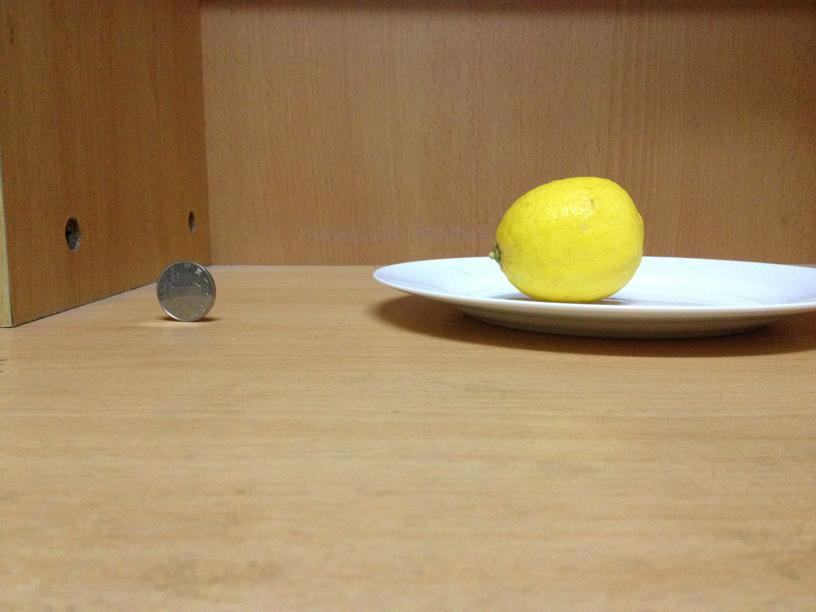coin: (155, 261, 213, 321)
lemon: (492, 176, 644, 302)
